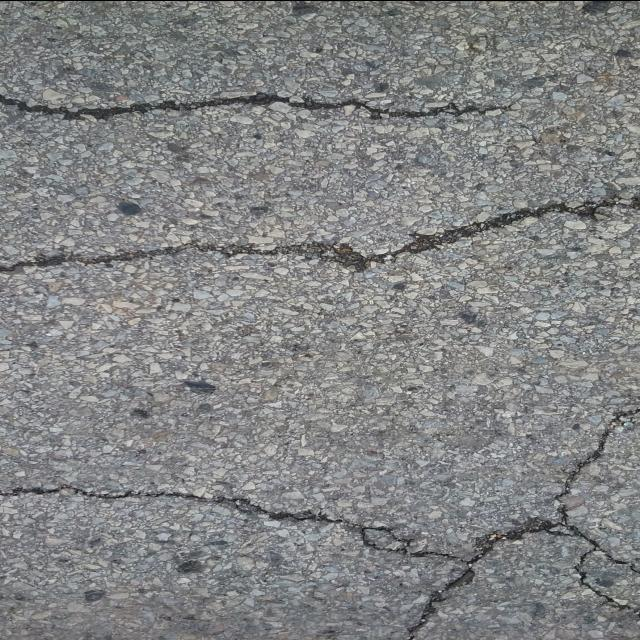Crack: (0, 406, 640, 640), (0, 195, 640, 271), (0, 90, 518, 122)
